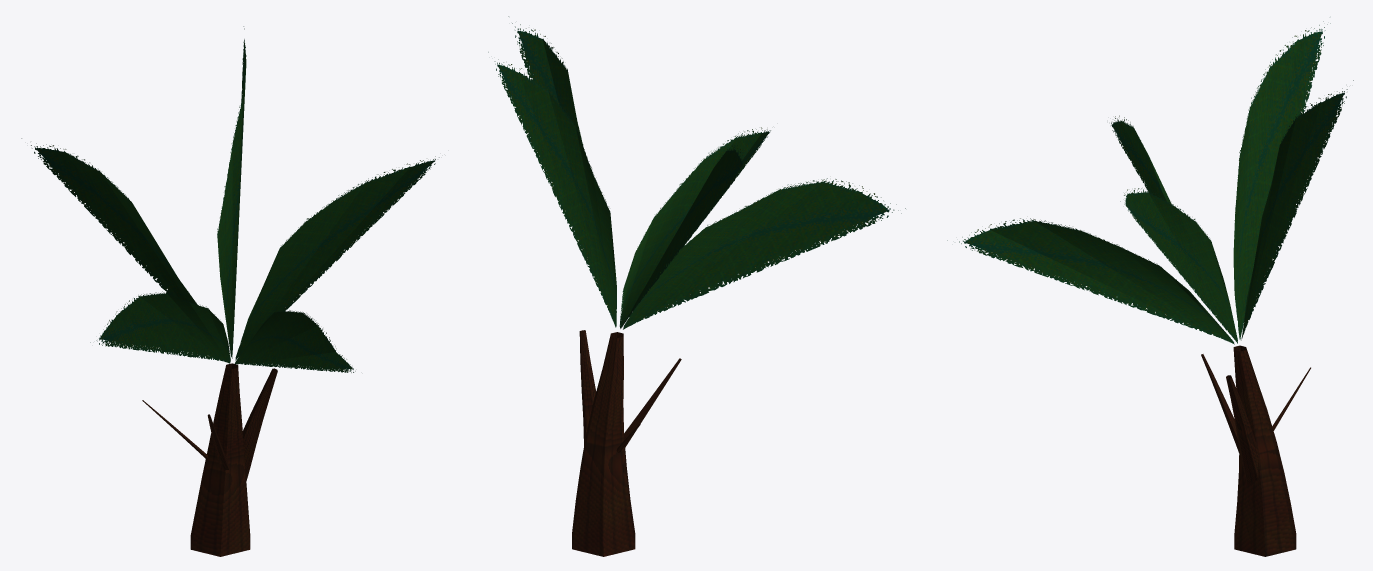
File: test_dupe.obj
3 views of the same model, side by side, from view 1: azimuth 30°, elevation 25°; view 2: azimuth 150°, elevation 25°; view 3: azimuth 270°, elevation 25° (orthographic). The views are drawn at different scales.
Bounding box in the file's own units: 12.65 × 15.37 × 11.67.
